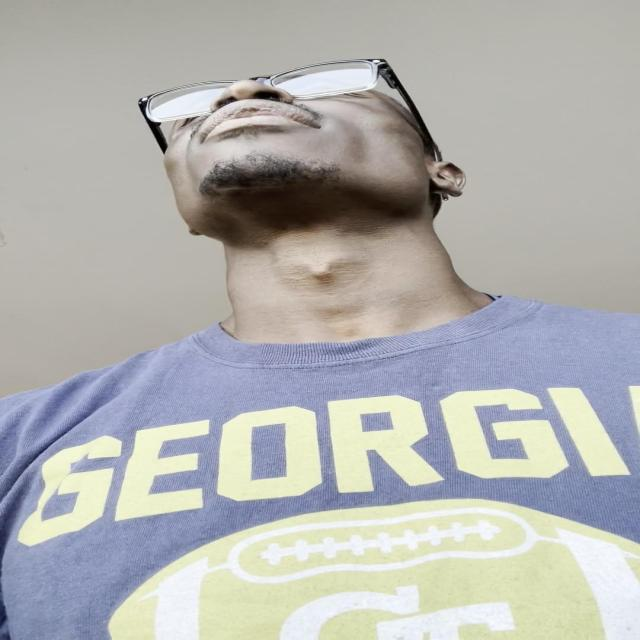NO-Mask: (152, 65, 452, 245)
